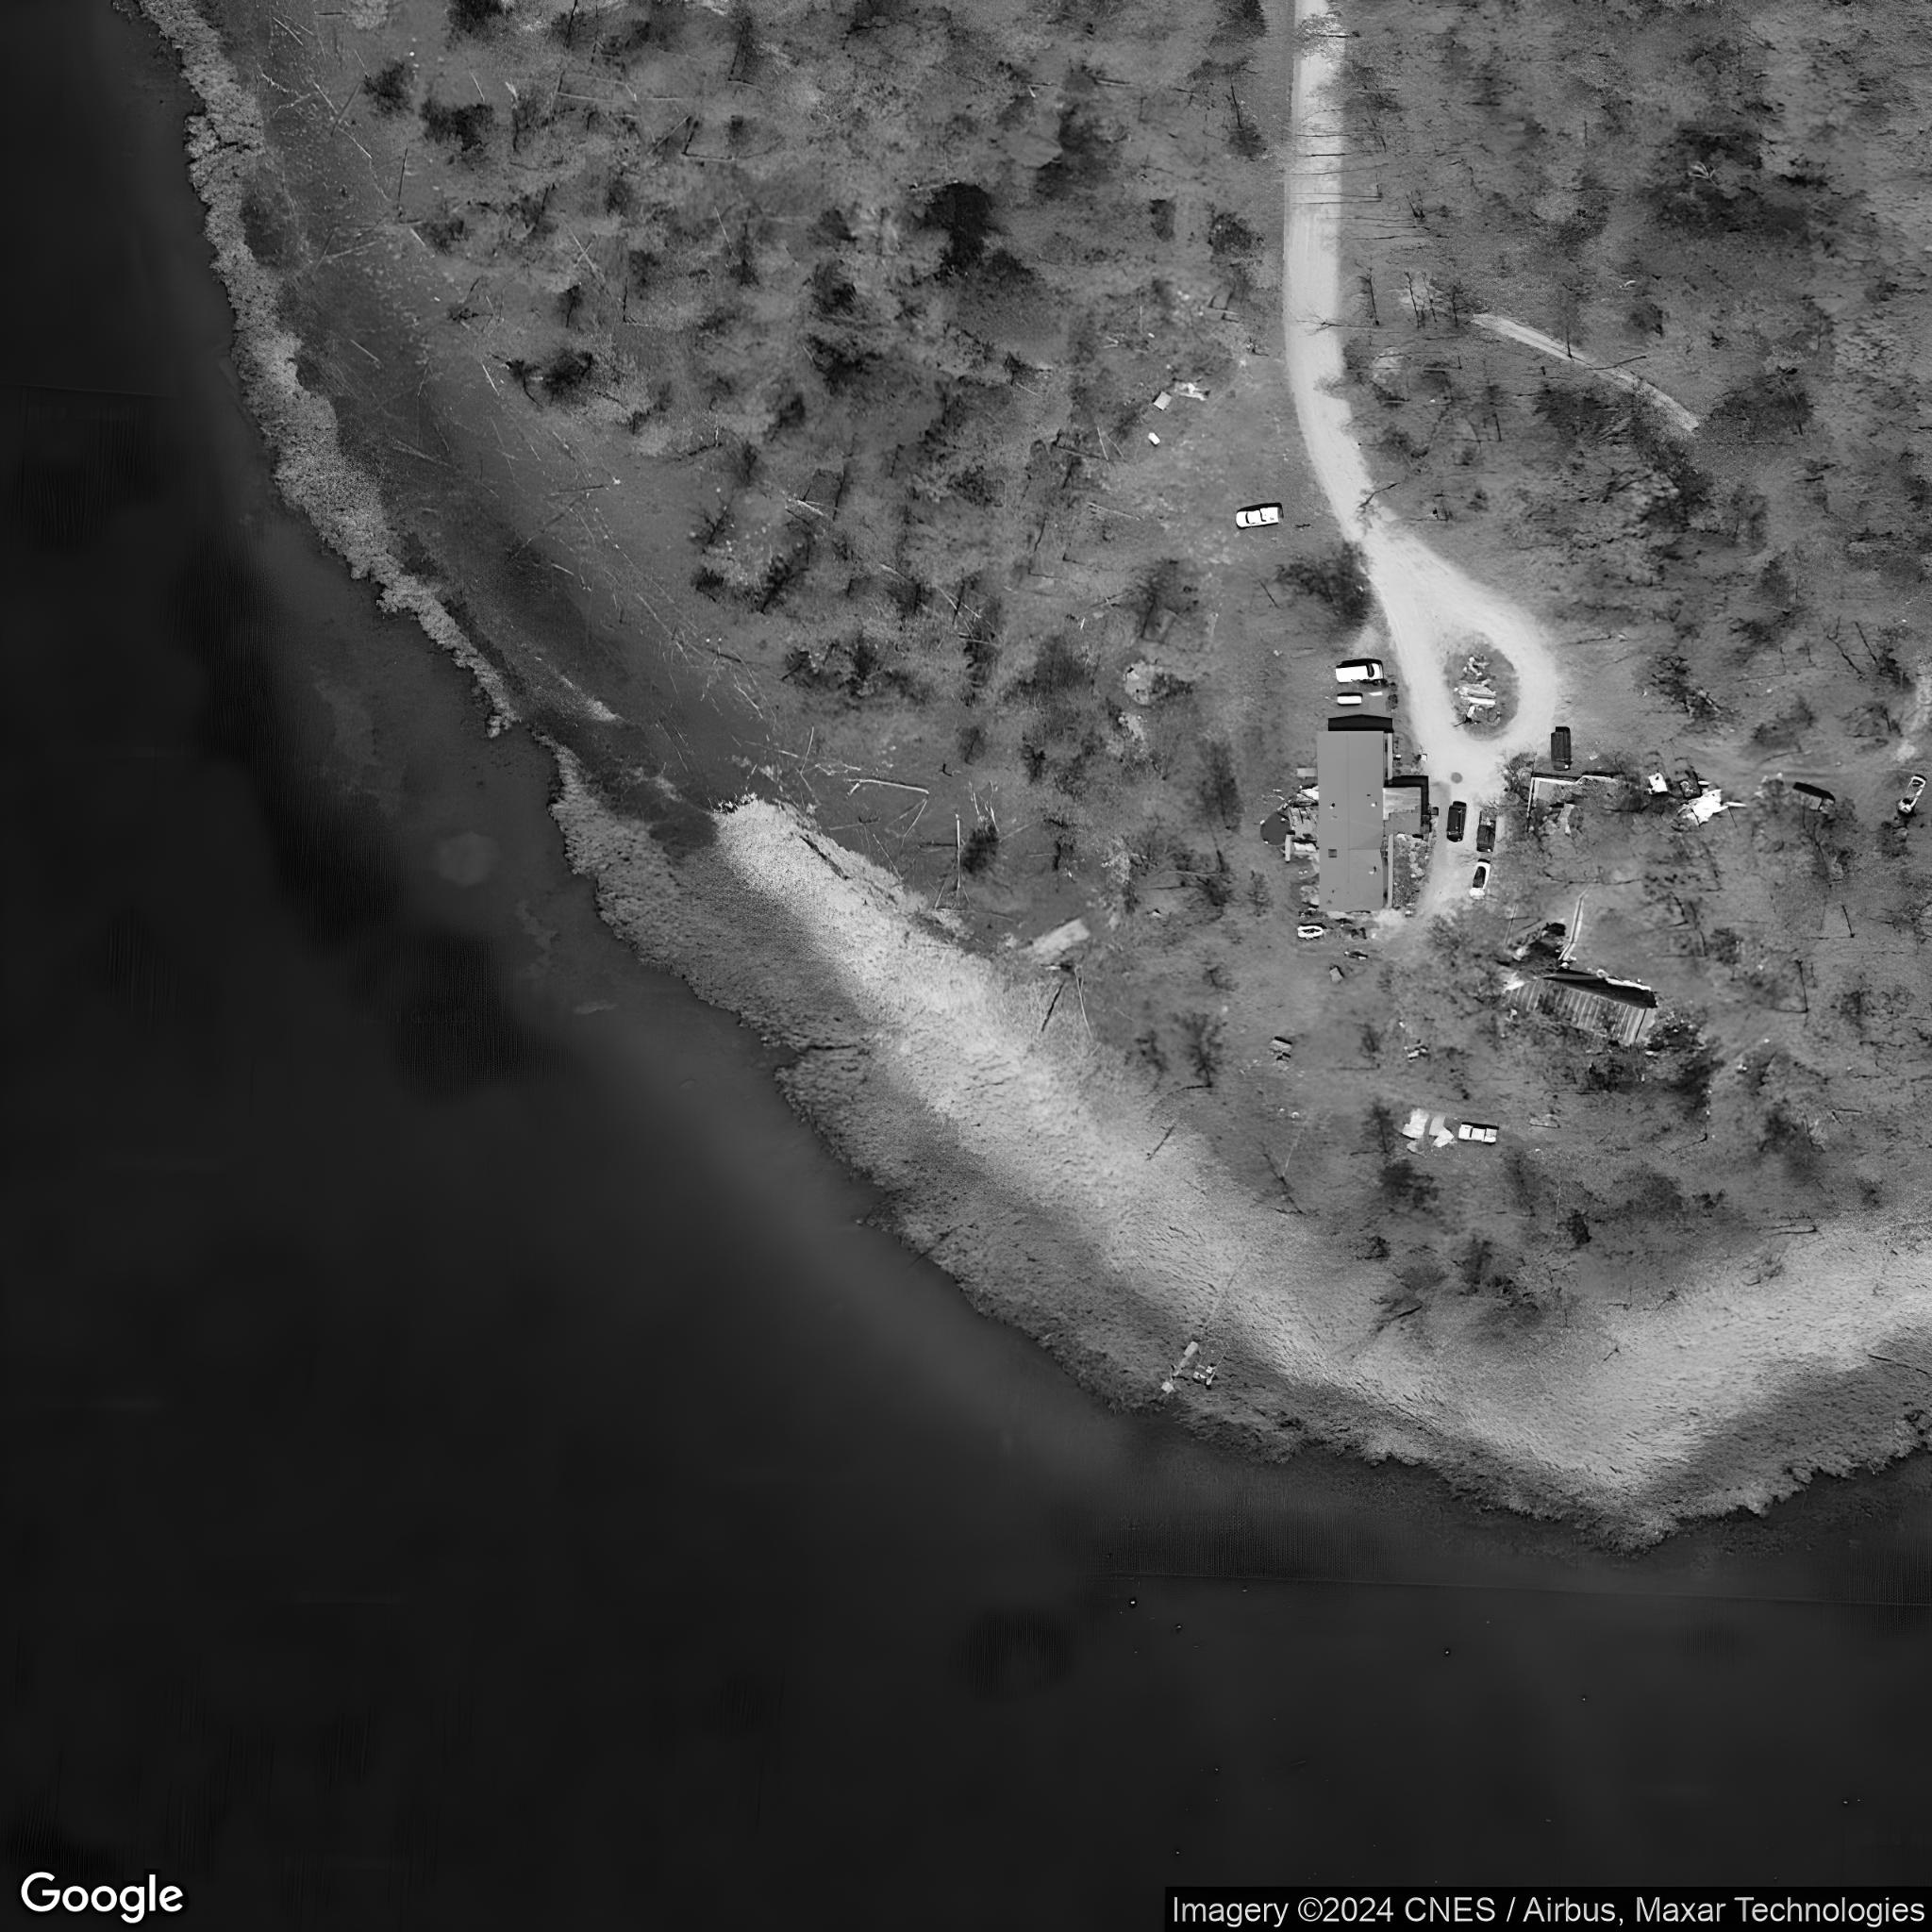House: (1315, 729, 1424, 913)
Propane: (1334, 692, 1366, 706)
